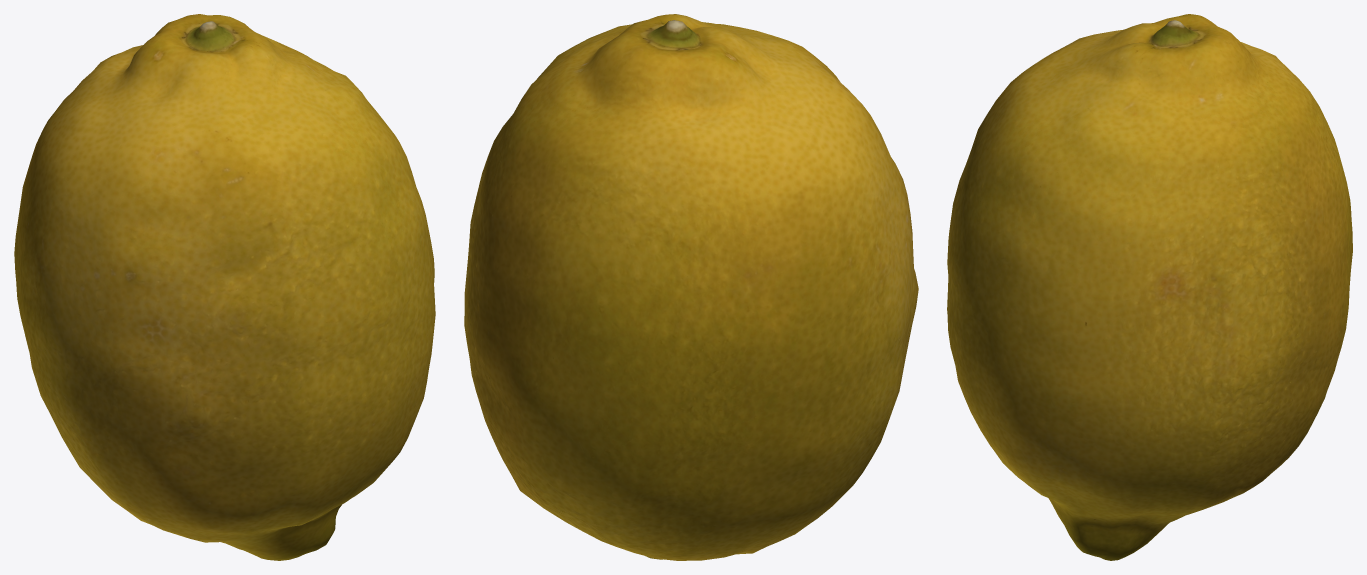
File: lemon.glb
3 renders of one model, left to right at view 1: azimuth 30°, elevation 25°; view 2: azimuth 150°, elevation 25°; view 3: azimuth 270°, elevation 25°, orthographic. The views are drawn at different scales.
Visible parts, largest first — view 1: lemon; view 2: lemon; view 3: lemon.
Part boxes in pixels (left/top/right/bottom): lemon: left=14, top=14, right=435, bottom=560; lemon: left=464, top=14, right=918, bottom=560; lemon: left=947, top=14, right=1352, bottom=560.
Bounding box in the file's own units: 0.7202 × 1 × 0.7157.
1 material, 1 textured.
